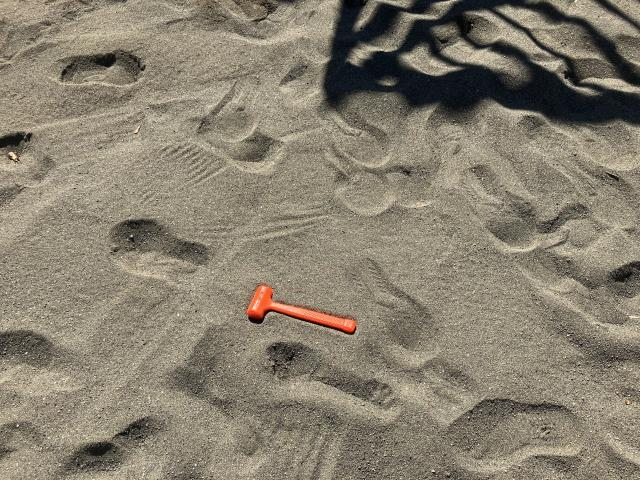hammer: (248, 284, 356, 335)
